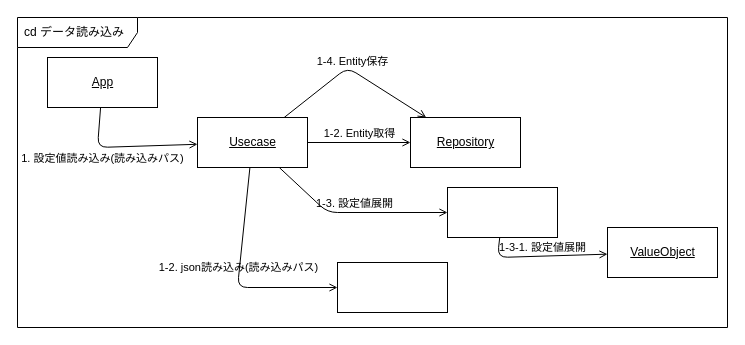
This 745x345 diagram has some shape labels left out. The shapes that lost their labels are listed below. From the top down, each one's centre as x and y in pixels, then its label:
At (502,212): "Entity".
At (392,287): "DataStore".
